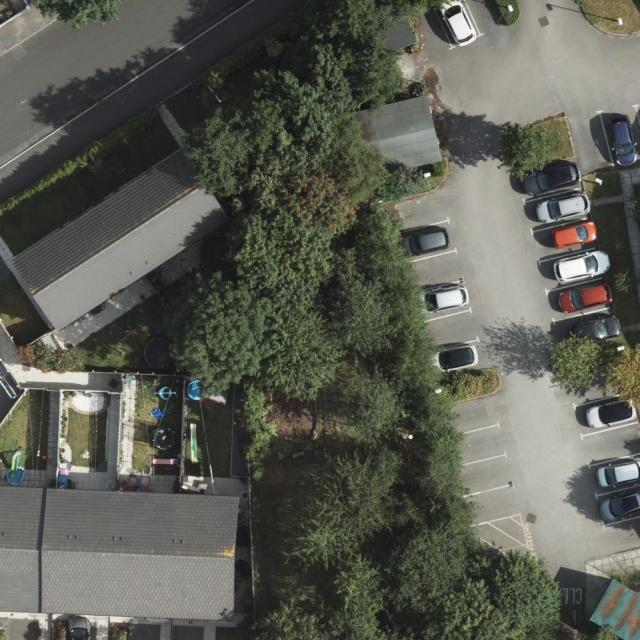roof: (9, 145, 231, 331), (0, 488, 240, 622), (353, 96, 443, 177)
